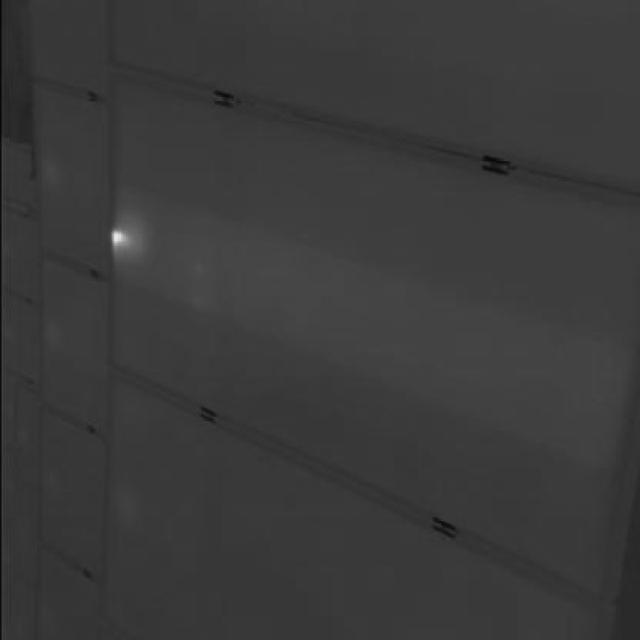hotspot: (106, 215, 132, 252)
